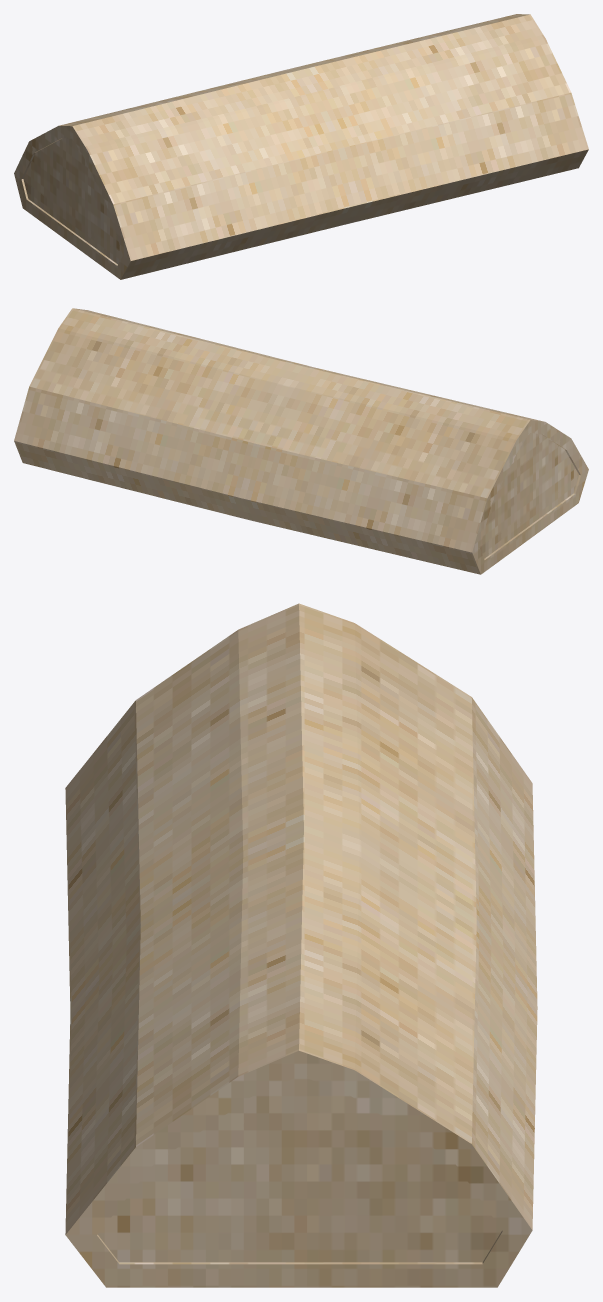
Rendered from triangle_dough.fbx.
3 renders of one model, top to bottom at view 1: azimuth 30°, elevation 25°; view 2: azimuth 150°, elevation 25°; view 3: azimuth 270°, elevation 25°, orthographic. The views are drawn at different scales.
Visible parts, largest first — view 1: Plane; view 2: Plane; view 3: Plane.
Boxes of the visible parts, <box> form: Plane: <box>14,14,588,279</box>; Plane: <box>14,308,588,574</box>; Plane: <box>65,603,537,1287</box>.
Bounding box in the file's own units: 4.53 × 1.13 × 2.02.
